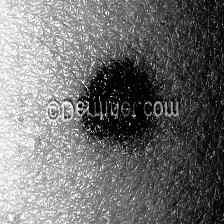Potentially Malignant Skin Tumors: (84, 42, 150, 96)
